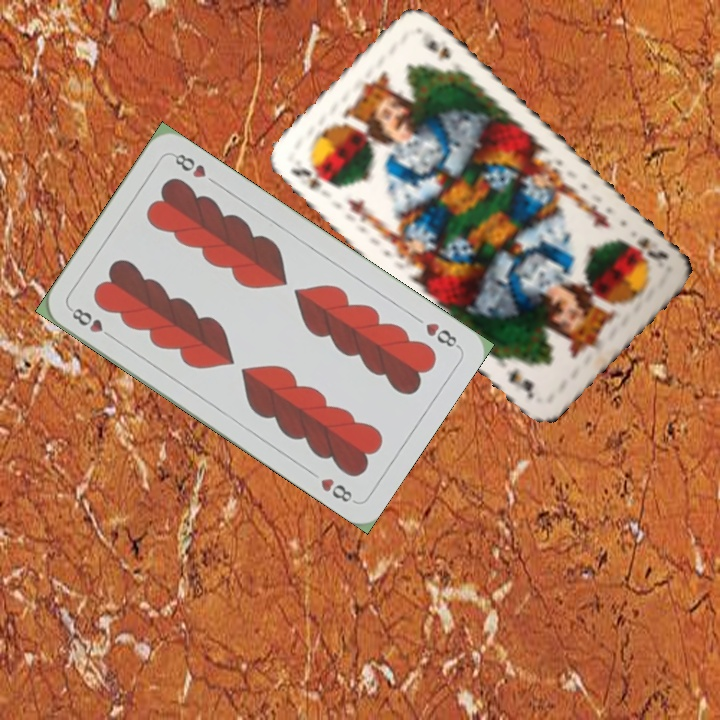H8: (66, 303, 118, 343), (421, 318, 462, 350)
SK: (286, 160, 338, 193), (622, 233, 671, 266)
